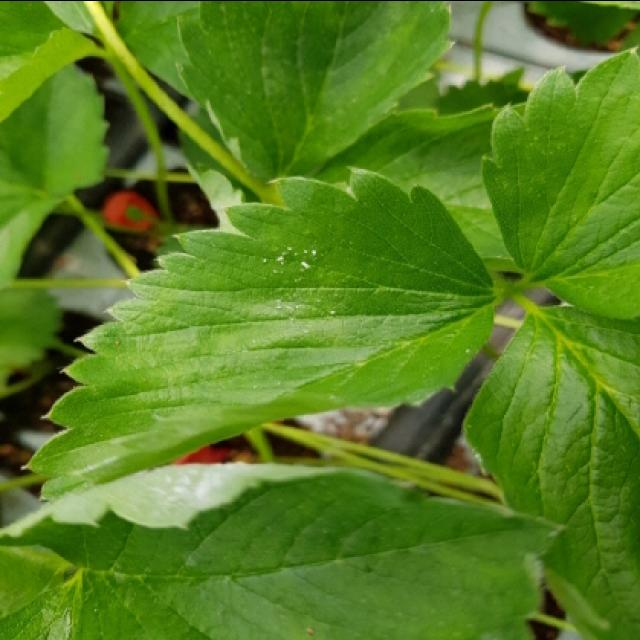Powdery Mildew Leaf: (21, 162, 497, 503), (0, 461, 569, 638)
